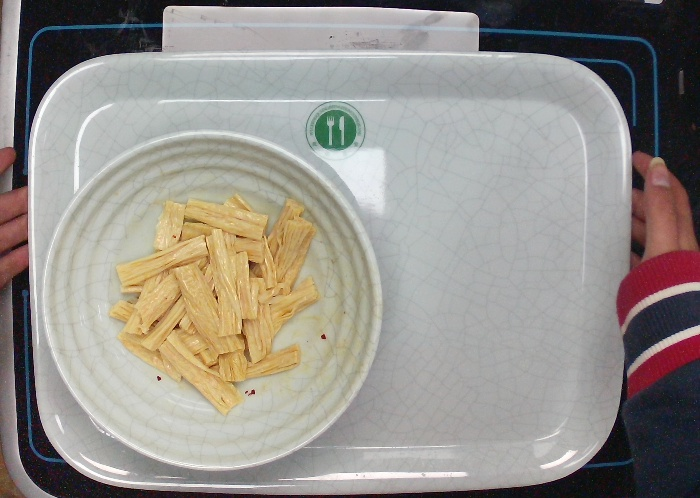JYsf-Da_Tang_Wan: (35, 121, 387, 475)
